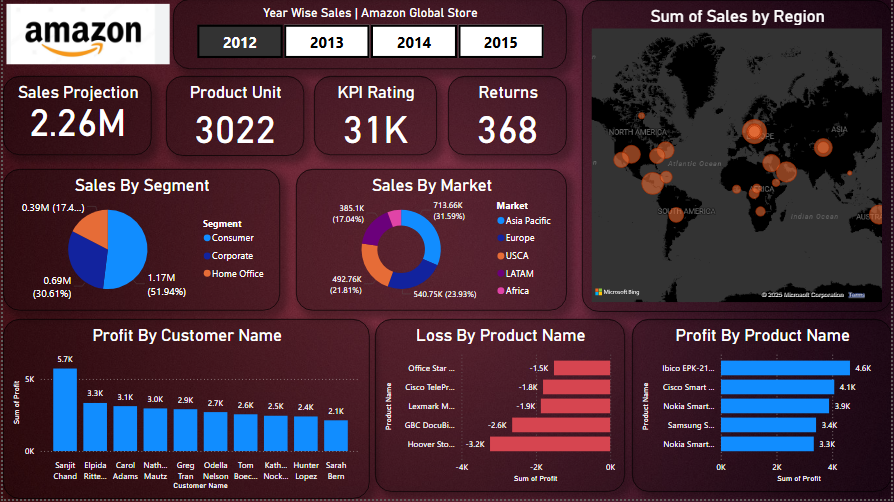

What the dashboard file says about the page in this screenshot:
{"tool":"powerbi","page":{"name":"Page 1","canvas":[1280,720],"ordinal":0},"visuals":[{"type":"slicer","title":"Year Wise Sales | Amazon Global Store","fields":{"Values":["Orders.Year"]},"box":[244.9,0,566.7,101.4],"z":0},{"type":"card","title":"Product Unit","fields":{"Values":["Orders.Product Name"]},"box":[234.7,110.9,198.7,115.2],"z":1000},{"type":"image","box":[0,0,244.9,101.4],"z":2000},{"type":"card","title":"Sales Projection","fields":{"Values":["Orders.Sales"]},"box":[0,111.6,214.5,114.5],"z":3000},{"type":"card","title":"KPI Rating","fields":{"Values":["Orders.Quantity"]},"box":[447.8,111.6,176.8,114.5],"z":4000},{"type":"card","title":"Returns","fields":{"Values":["Orders.Ship Date"]},"box":[640.6,111.6,171,114.5],"z":5000},{"type":"pieChart","title":"Sales  By Segment","fields":{"Y":["Orders.Sales"],"Category":["Orders.Segment"]},"box":[0,244.8,398.9,204.5],"z":6000},{"type":"donutChart","title":"Sales By Market","fields":{"Y":["Orders.Sales"],"Category":["Orders.Market"]},"box":[421.7,244.9,389.9,204.3],"z":7000},{"type":"columnChart","title":"Profit By Customer Name","fields":{"Category":["Orders.Customer Name"],"Y":["Orders.Profit"]},"box":[0,460.8,528.5,259.2],"z":8000},{"type":"clusteredBarChart","title":" Profit By Product Name","fields":{"Category":["Orders.Product Name"],"Y":["Orders.Profit"]},"box":[905.8,460.8,374.4,249.1],"z":9000},{"type":"clusteredBarChart","title":"Loss By Product  Name","fields":{"Y":["Orders.Profit"],"Category":["Orders.Product Name"]},"box":[535.7,460.8,360,249.1],"z":10000},{"type":"map","fields":{"Category":["Orders.Region"],"Size":["Orders.Sales"]},"box":[833.8,1.4,446.4,449.3],"z":11000}]}

Visuals, with their boxes in screenshot pixels (x1, y1, x2, y2), scaled from the page's 1280x720 canvas onto the 894x502 screenshot:
"Year Wise Sales | Amazon Global Store" slicer: box=[171, 0, 567, 71]
"Product Unit" card: box=[164, 77, 303, 158]
image: box=[0, 0, 171, 71]
"Sales Projection" card: box=[0, 78, 150, 158]
"KPI Rating" card: box=[313, 78, 436, 158]
"Returns" card: box=[447, 78, 567, 158]
"Sales  By Segment" pieChart: box=[0, 171, 279, 313]
"Sales By Market" donutChart: box=[295, 171, 567, 313]
"Profit By Customer Name" columnChart: box=[0, 321, 369, 501]
" Profit By Product Name" clusteredBarChart: box=[633, 321, 893, 495]
"Loss By Product  Name" clusteredBarChart: box=[374, 321, 626, 495]
map - Orders.Region x Orders.Sales: box=[582, 1, 893, 314]
